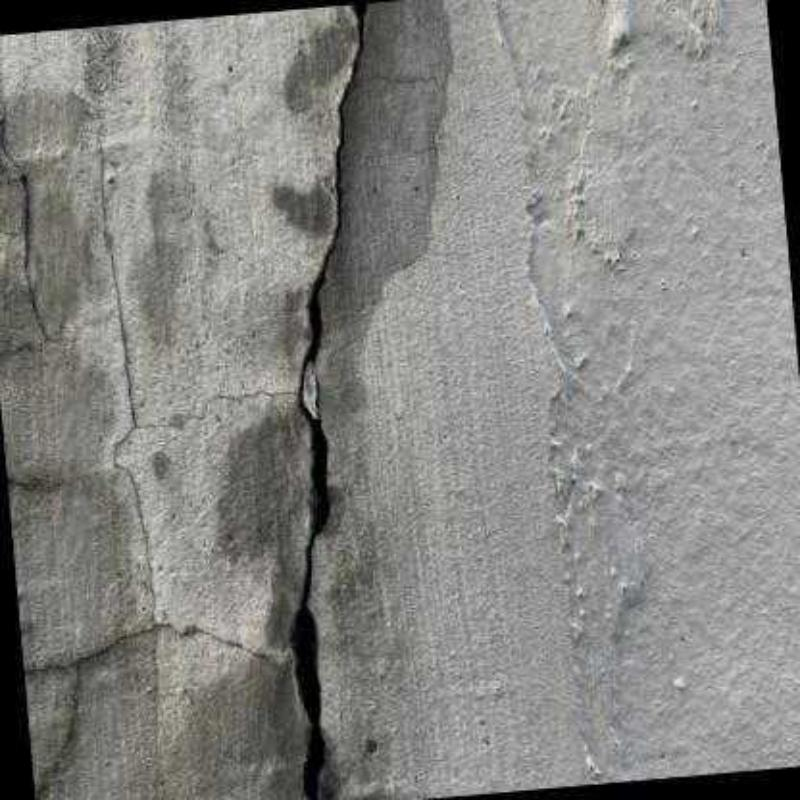pothole: (25, 138, 265, 798), (282, 1, 368, 798), (0, 108, 50, 342), (217, 390, 294, 400), (6, 477, 35, 492)
